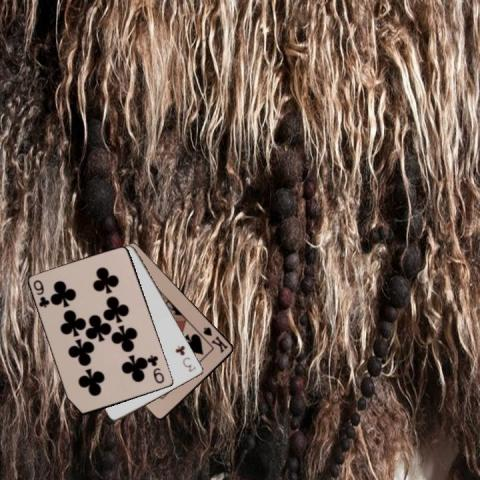3c: (173, 343, 197, 373)
9c: (146, 352, 166, 385), (31, 278, 51, 310)
Ks: (200, 324, 229, 355)
